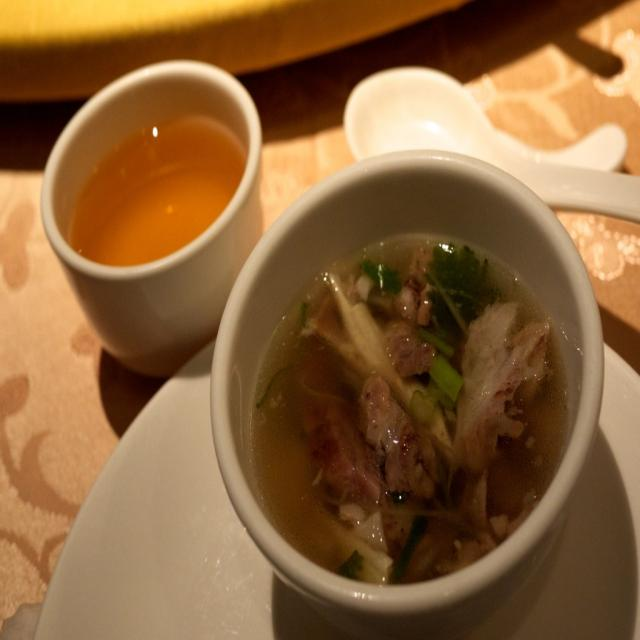Tea: (69, 125, 247, 264)
